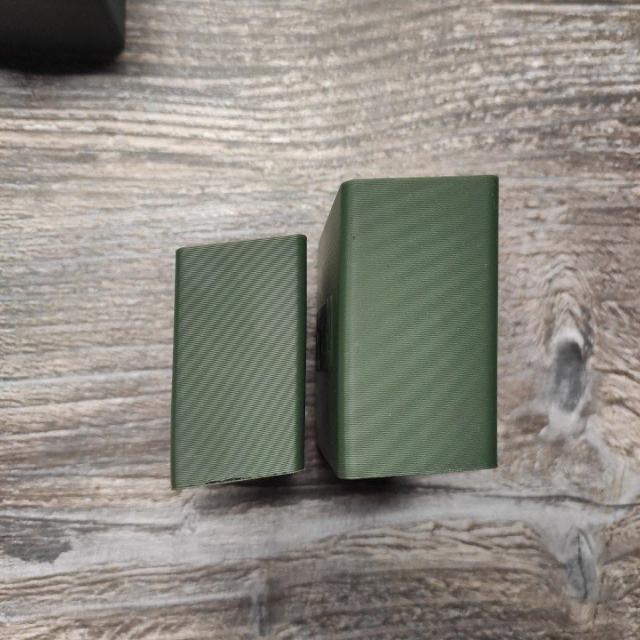Without deffect: (168, 159, 518, 514)
